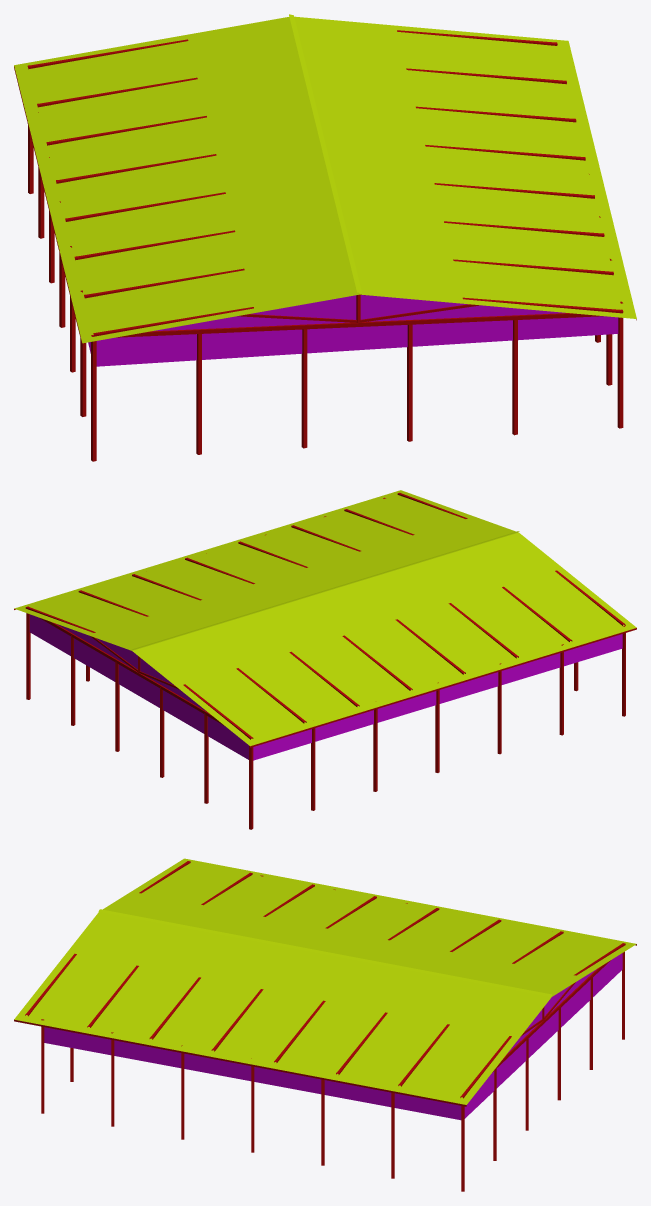
Rendered from stabulation_a.glb.
The picture shows the model from 3 angles, top to bottom: view 1: azimuth 30°, elevation 25°; view 2: azimuth 150°, elevation 25°; view 3: azimuth 270°, elevation 25°; orthographic projection. The views are drawn at different scales.
Parts seen in each view (by area): view 1: stabulation_a; view 2: stabulation_a; view 3: stabulation_a.
Boxes of the visible parts, x1=… form: stabulation_a: x1=14, y1=14, x2=636, y2=461; stabulation_a: x1=14, y1=490, x2=636, y2=829; stabulation_a: x1=14, y1=858, x2=636, y2=1191.
Bounding box in the file's own units: 36.36 × 8.35 × 38.82.
